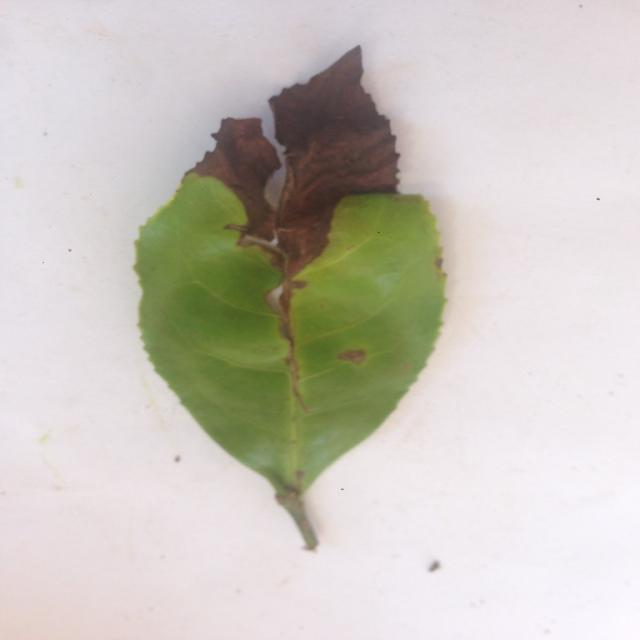Brown Blight: (123, 44, 488, 560)
